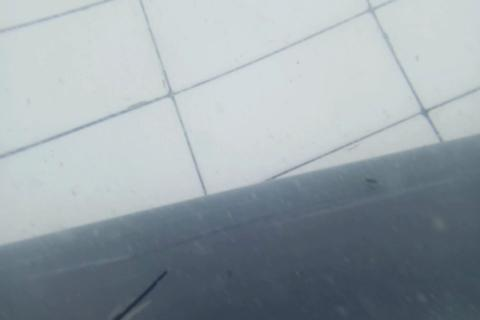keretakan: (110, 268, 169, 320)
